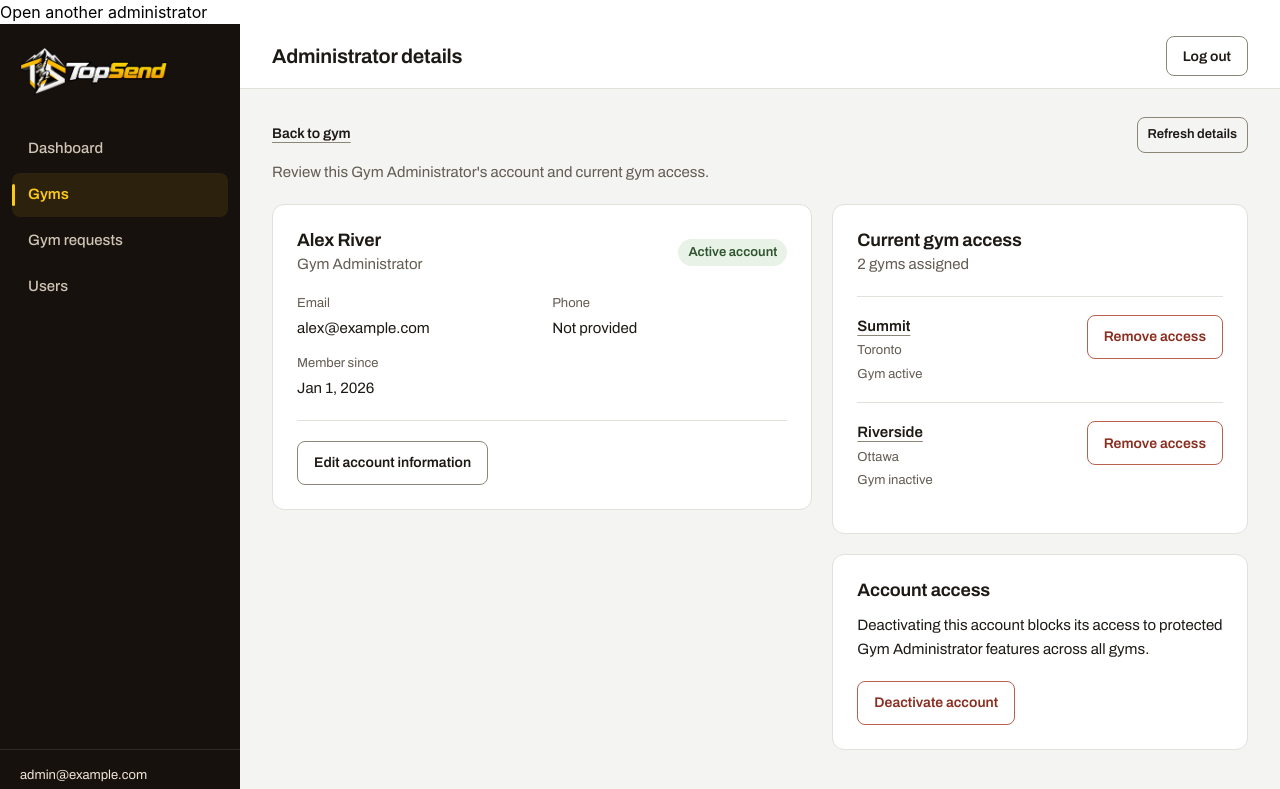
Scenario: US007 administrator details and access controls (injected contract) › does not remove gym access before confirmation, and Cancel sends no request
Click the button with aria-label "Remove access to Summit": (1155, 337) 1087,315 -> 1223,359
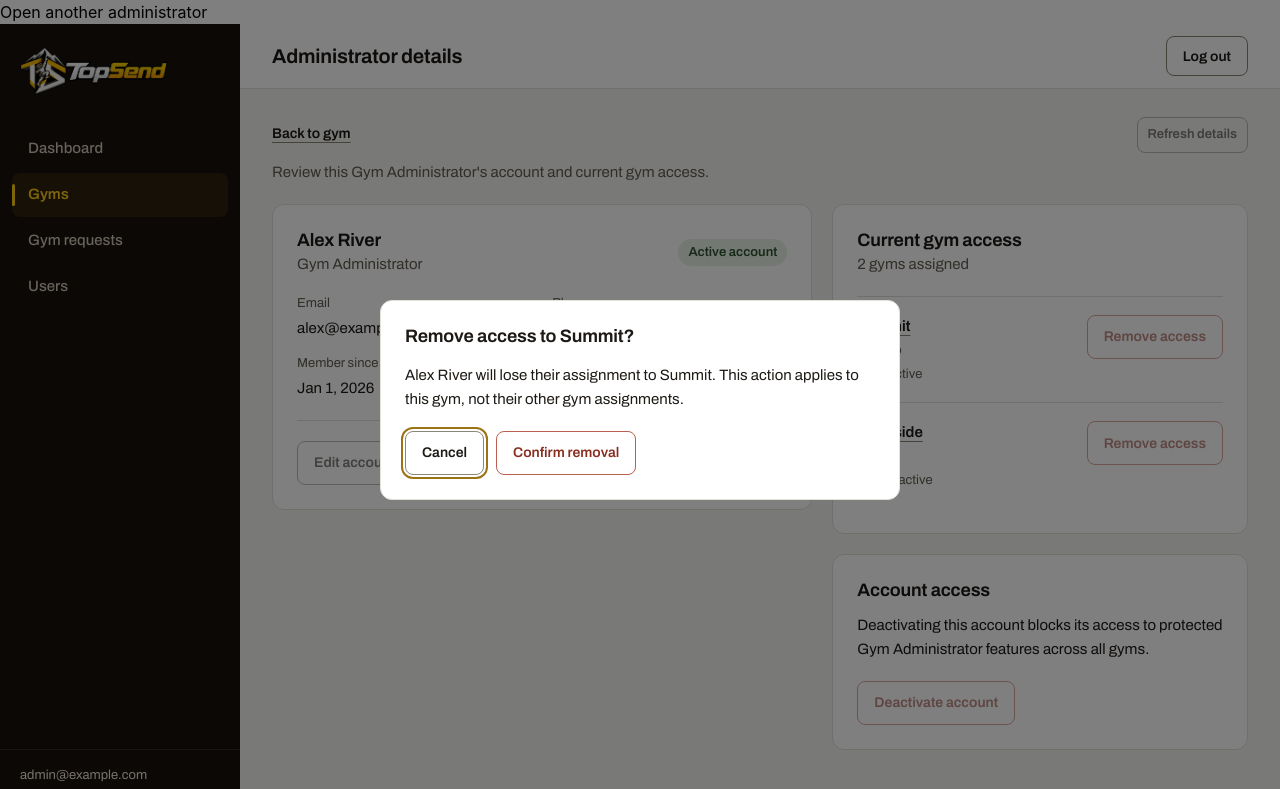
Now the dialog "Remove access to Summit?" is shown, box 380,300 -> 900,500
Click the button "Cancel": (445, 453) 405,431 -> 484,475
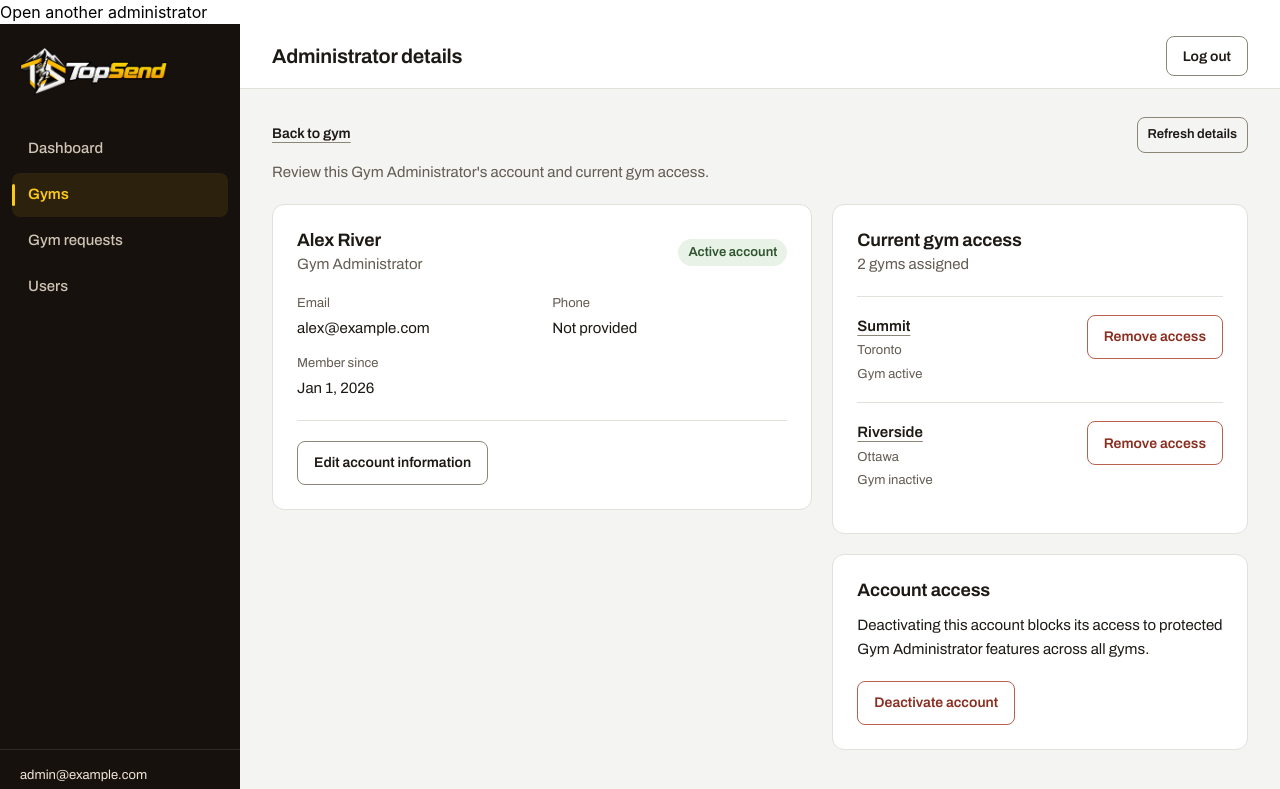
Now the dialog is gone
